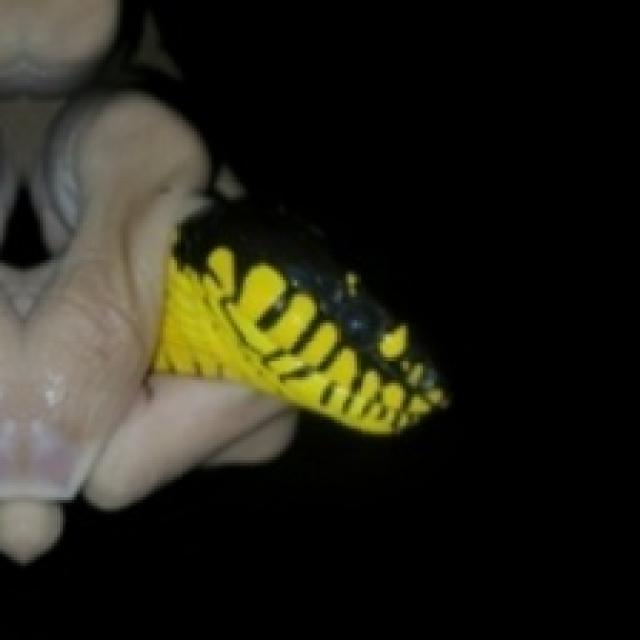mangrove cat snake: (156, 205, 446, 434)
